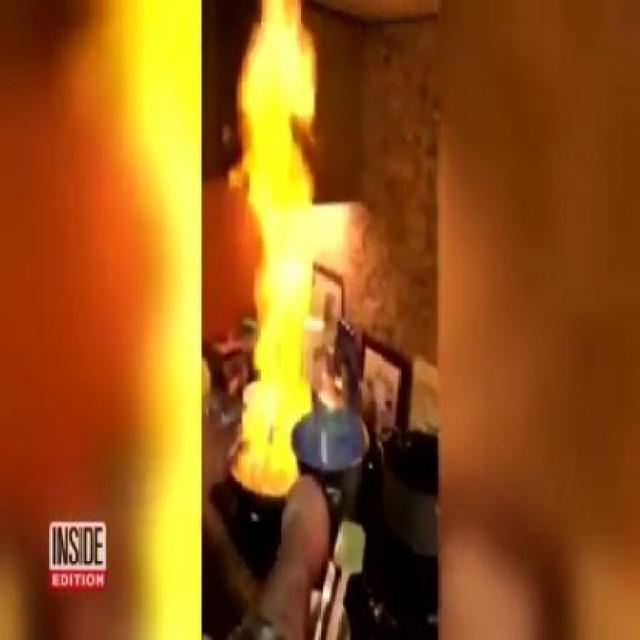fire: (227, 25, 316, 388)
